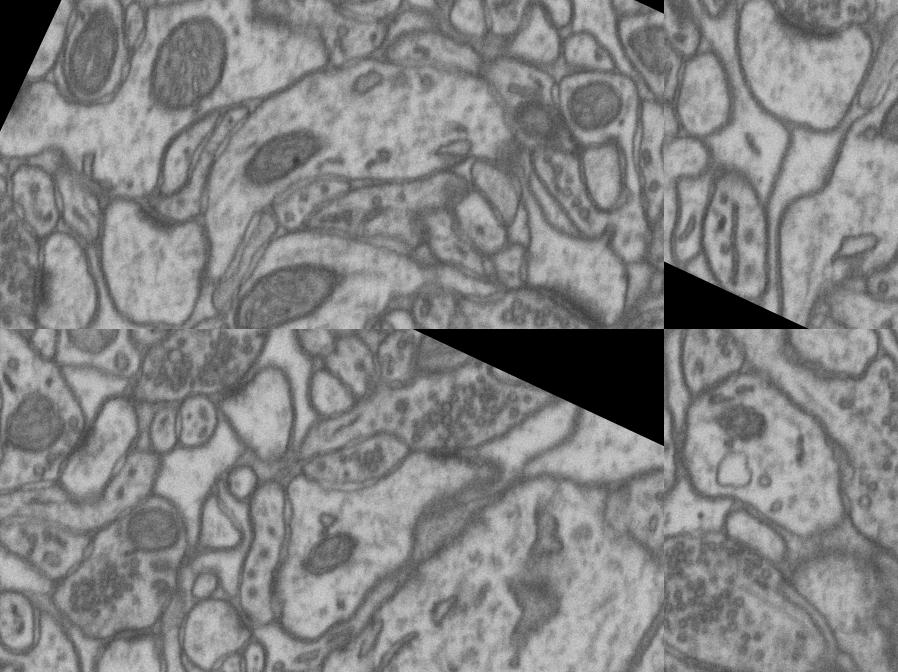mitochondria: (122, 0, 251, 141), (213, 219, 361, 329), (232, 98, 338, 212), (41, 0, 144, 112), (820, 529, 898, 665), (87, 490, 184, 582), (402, 330, 518, 406), (570, 474, 660, 563), (491, 80, 580, 162), (551, 64, 636, 146), (0, 382, 73, 476), (304, 510, 383, 590), (859, 400, 898, 561), (711, 390, 791, 468), (608, 3, 664, 93), (860, 51, 898, 173), (44, 329, 141, 374)
